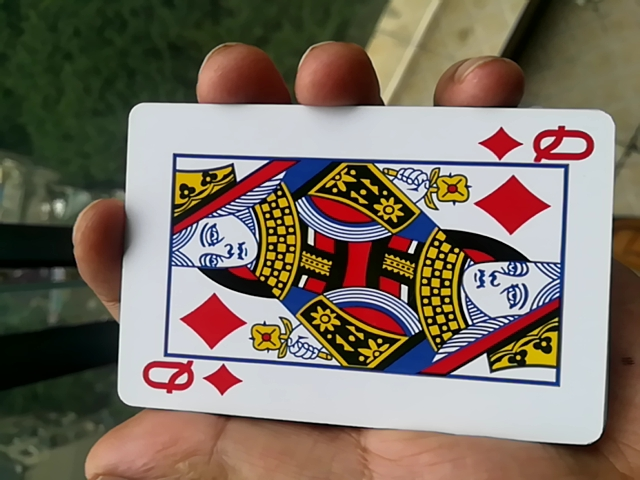fk q: (100, 107, 614, 447)
